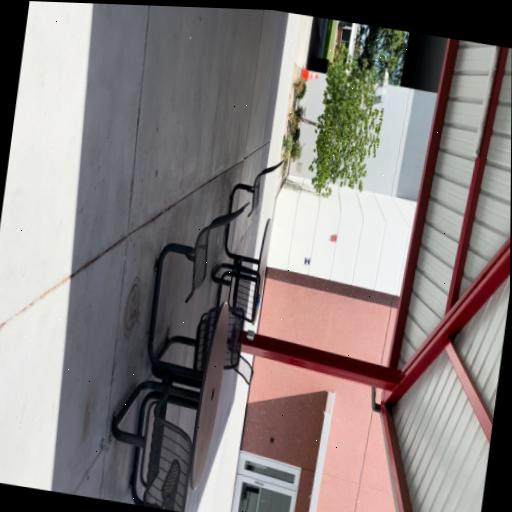target9: (304, 256, 310, 266)
